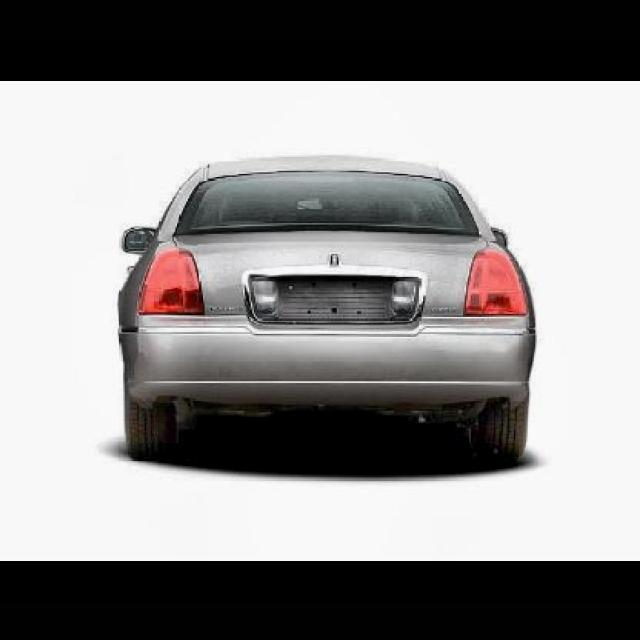silver: (117, 154, 535, 457)
